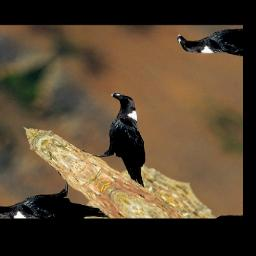Crow: (62, 87, 195, 193)
